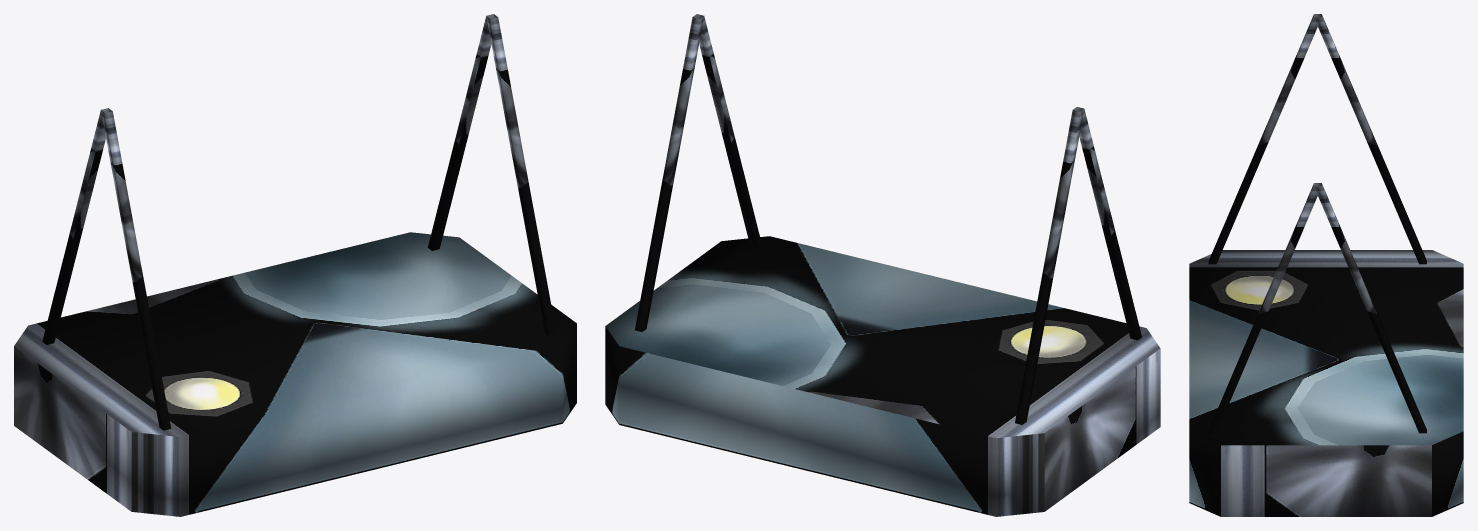
Rendered from lamp4.glb.
3 views of the same model, side by side, from view 1: azimuth 30°, elevation 25°; view 2: azimuth 150°, elevation 25°; view 3: azimuth 270°, elevation 25° (orthographic). The views are drawn at different scales.
Parts seen in each view (by area): view 1: Box03; view 2: Box03; view 3: Box03.
Part boxes in pixels (x1,y1,x2,y2): Box03: (14, 14, 576, 516); Box03: (605, 14, 1160, 516); Box03: (1189, 14, 1463, 516).
Bounding box in the file's own units: 53.49 × 40.71 × 31.71.
1 material, 1 textured.
